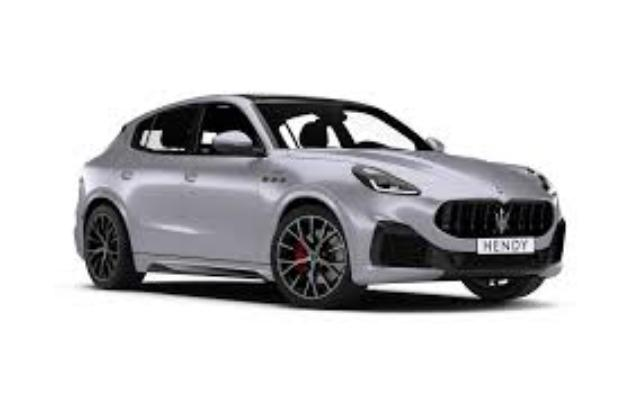maserati: (74, 94, 566, 308)
